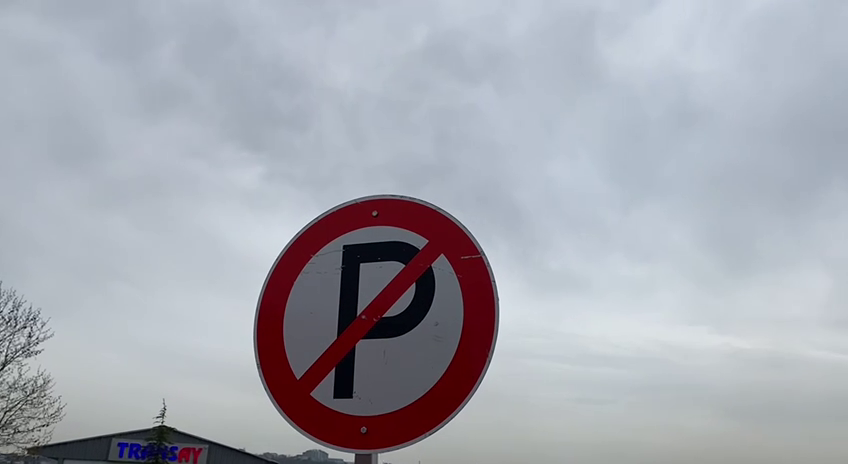noparking: (247, 190, 510, 455)
